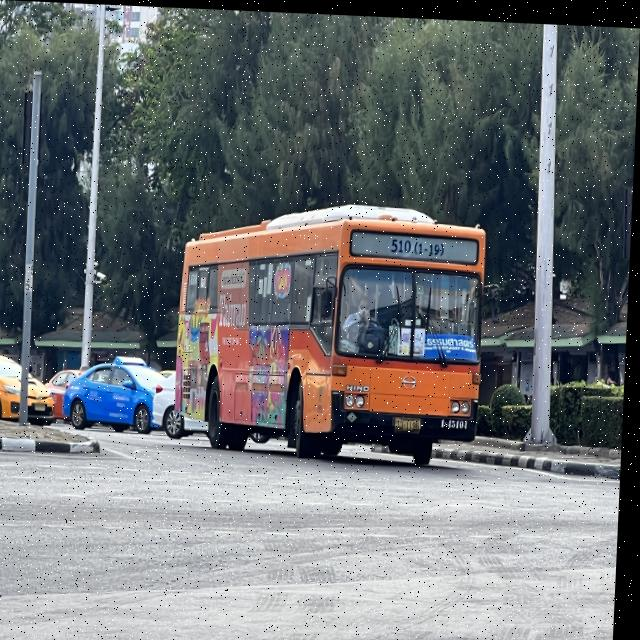BMTA-bus: (168, 203, 489, 464)
Bus Line Number: (389, 227, 451, 258)
Bus Side Number: (440, 409, 475, 429)
Destination Sign: (426, 327, 483, 356)
